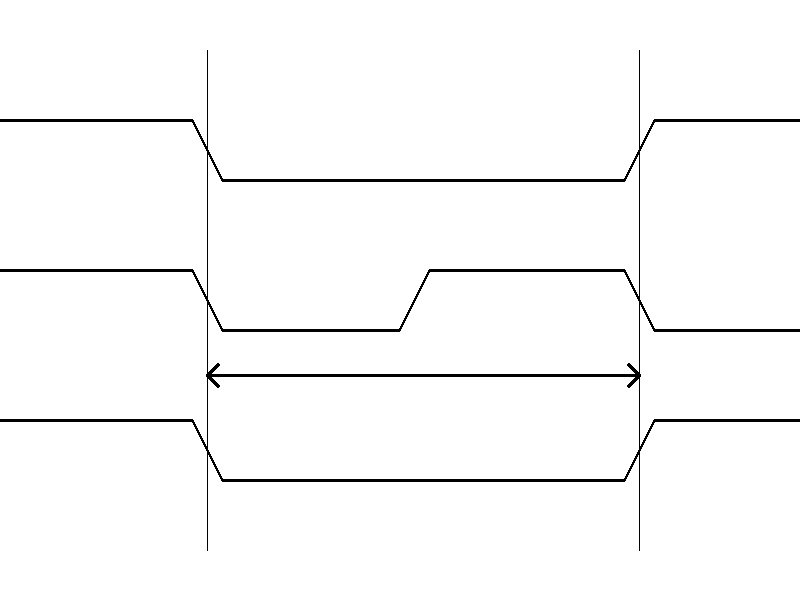double_arrow: (207, 360, 639, 390)
